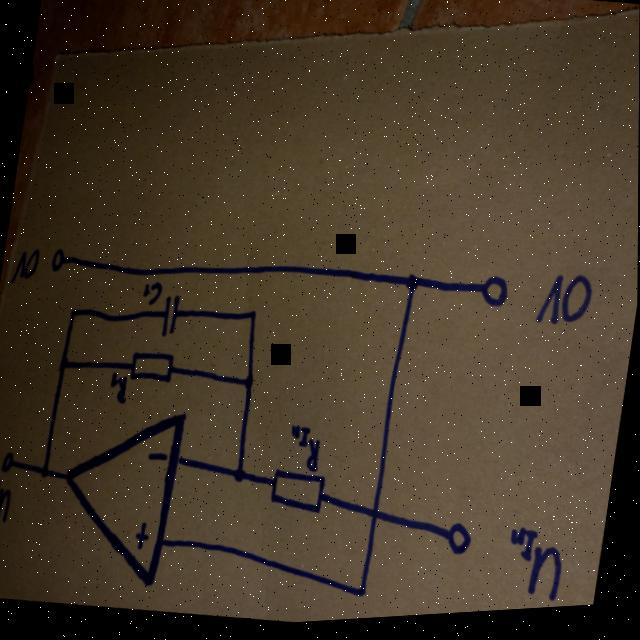capacitor: (160, 296, 184, 343)
crossover: (368, 508, 384, 530)
junction: (404, 276, 423, 301), (242, 375, 257, 397), (234, 470, 248, 489), (247, 310, 261, 328), (57, 357, 71, 375), (40, 465, 52, 483), (357, 591, 369, 604), (69, 308, 80, 322)
resistor: (269, 469, 329, 523), (129, 350, 177, 390)
terminal: (444, 525, 477, 567), (480, 279, 513, 320), (50, 248, 68, 278), (1, 451, 17, 476)
text: (501, 530, 570, 614), (535, 276, 597, 339), (285, 426, 329, 482), (9, 246, 42, 290), (108, 373, 133, 410), (0, 474, 16, 525), (142, 281, 165, 311)
